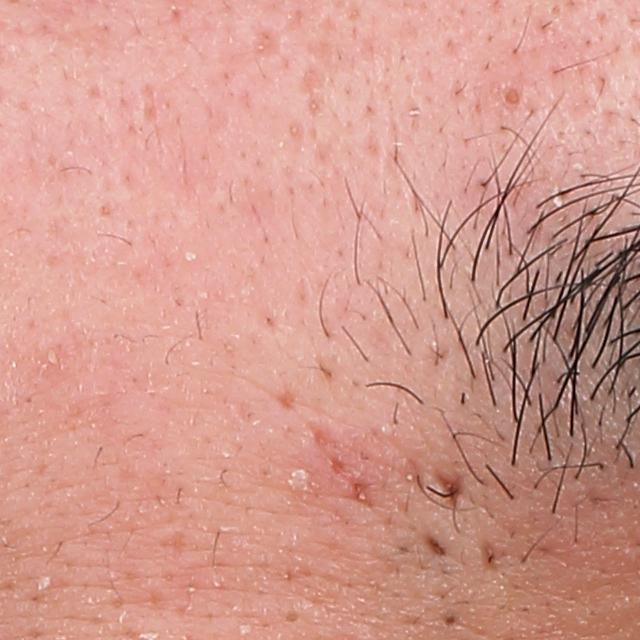comedo: (494, 81, 525, 111), (279, 611, 303, 624)
